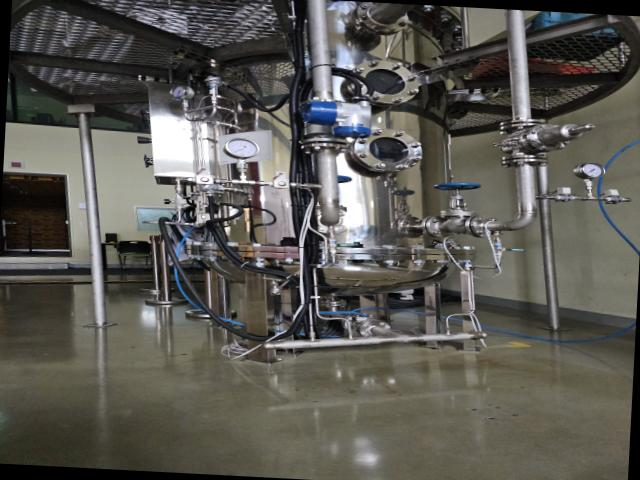Flange: (350, 126, 426, 176), (344, 58, 423, 106)
Flush Ring: (352, 2, 410, 36), (306, 206, 354, 234), (298, 136, 354, 156), (463, 213, 502, 239), (498, 117, 548, 136), (500, 152, 552, 170), (422, 215, 458, 239), (358, 318, 393, 340)
GasRegulator: (166, 74, 252, 132)
Nuts: (190, 174, 218, 188), (268, 178, 296, 192), (552, 193, 578, 203), (603, 196, 627, 206)
Piston Valve: (433, 180, 481, 217), (312, 173, 352, 212)
Pressure Gage: (221, 138, 261, 180), (572, 160, 606, 198)
